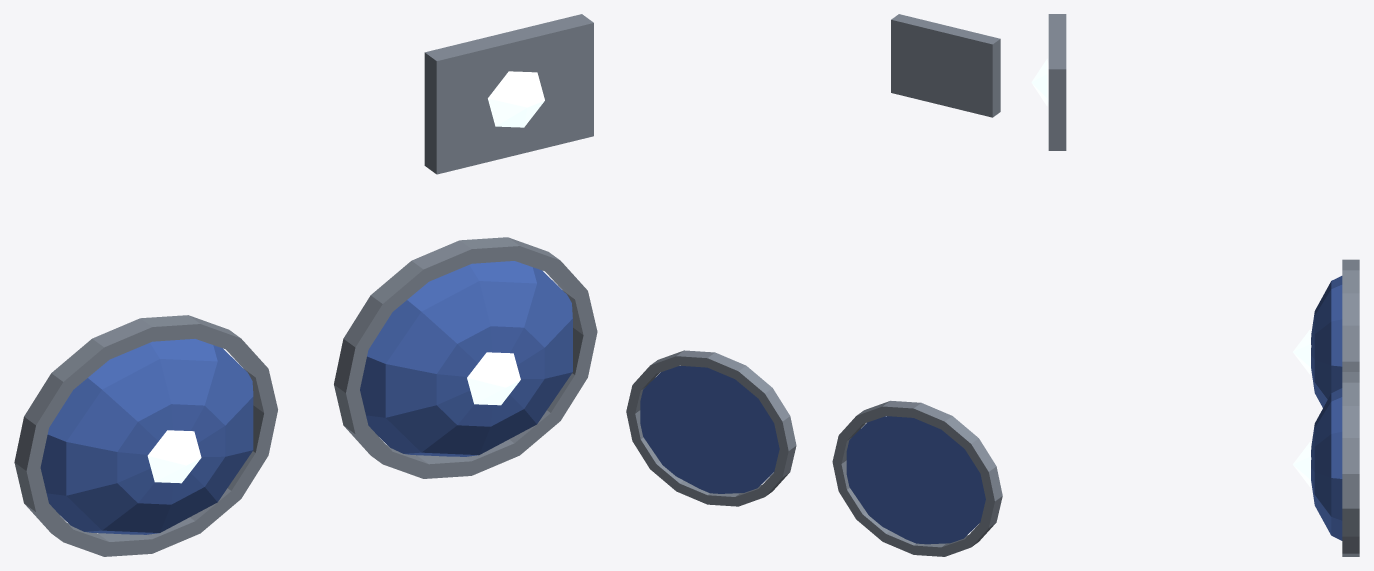
Rendered from armor_lord_legs_rare_orc.glb.
3 views of the same model, side by side, from view 1: azimuth 30°, elevation 25°; view 2: azimuth 150°, elevation 25°; view 3: azimuth 270°, elevation 25° (orthographic). The views are drawn at different scales.
Parts seen in each view (by area): view 1: armor_lord_legs_rare_orc__calf_l, armor_lord_legs_rare_orc__calf_r, armor_lord_legs_rare_orc__pelvis; view 2: armor_lord_legs_rare_orc__calf_l, armor_lord_legs_rare_orc__calf_r, armor_lord_legs_rare_orc__pelvis; view 3: armor_lord_legs_rare_orc__calf_l, armor_lord_legs_rare_orc__calf_r, armor_lord_legs_rare_orc__pelvis.
Part boxes in pixels (x1,y1,x2,y2): armor_lord_legs_rare_orc__calf_l: [334, 237, 597, 478]; armor_lord_legs_rare_orc__calf_r: [14, 315, 277, 556]; armor_lord_legs_rare_orc__pelvis: [424, 14, 593, 174]; armor_lord_legs_rare_orc__calf_l: [626, 350, 796, 506]; armor_lord_legs_rare_orc__calf_r: [832, 400, 1002, 556]; armor_lord_legs_rare_orc__pelvis: [891, 14, 1000, 117]; armor_lord_legs_rare_orc__calf_l: [1293, 372, 1359, 556]; armor_lord_legs_rare_orc__calf_r: [1293, 259, 1359, 407]; armor_lord_legs_rare_orc__pelvis: [1031, 14, 1066, 150].
Size of the model in its own units: 32.67 by 34 by 22.56.
